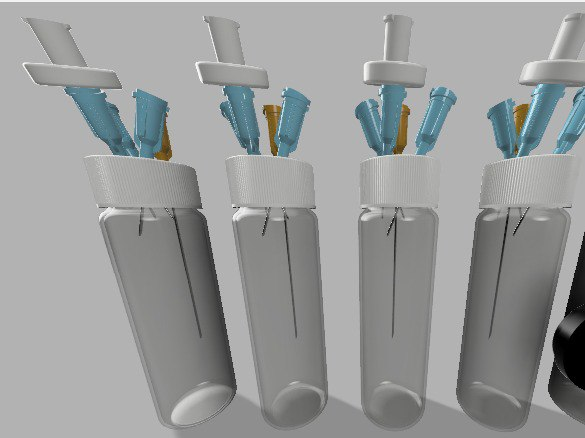vial: (77, 153, 239, 430), (453, 156, 579, 430), (224, 156, 330, 430), (357, 156, 441, 430)
